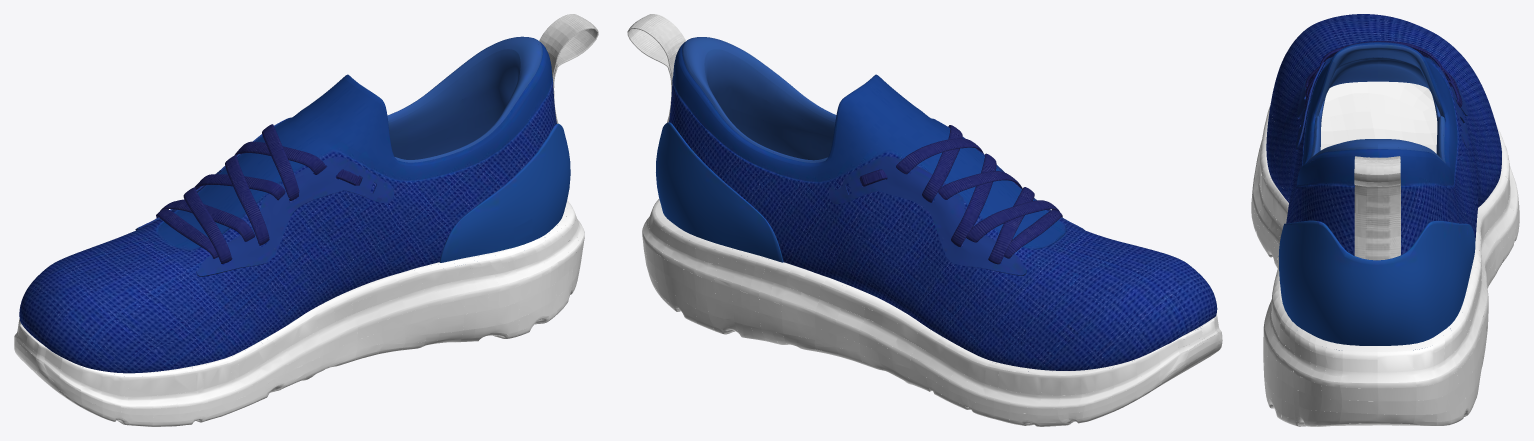
Rendered from shoeminimalglb.glb.
The picture shows the model from 3 angles, left to right: view 1: azimuth 30°, elevation 25°; view 2: azimuth 150°, elevation 25°; view 3: azimuth 270°, elevation 25°; orthographic projection. The views are drawn at different scales.
Visible parts, largest first — view 1: pasted__polySurface1, Botto, pasted__polySurface2, pasted__polySurface14, pasted__polySurface5, pasted__polySurface9; view 2: pasted__polySurface1, Botto, pasted__polySurface2, pasted__polySurface14, pasted__polySurface8, pasted__polySurface9; view 3: pasted__polySurface1, Botto, pasted__polySurface2, Insole, pasted__polySurface9, pasted__polySurface14, pasted__polySurface5, pasted__polySurface8.
Boxes of the visible parts, x1,y1,x2,y2 form: pasted__polySurface1: (19,36,556,373); Botto: (14,200,584,426); pasted__polySurface2: (439,123,570,262); pasted__polySurface14: (156,124,326,263); pasted__polySurface5: (196,156,393,276); pasted__polySurface9: (539,14,598,123); pasted__polySurface1: (669,37,1217,371); Botto: (642,199,1222,426); pasted__polySurface2: (656,122,783,262); pasted__polySurface14: (896,125,1062,264); pasted__polySurface8: (829,156,1026,275); pasted__polySurface9: (627,14,685,122); pasted__polySurface1: (1266,14,1501,255); Botto: (1251,106,1519,426); pasted__polySurface2: (1278,220,1475,350); Insole: (1320,81,1437,153); pasted__polySurface9: (1354,156,1400,260); pasted__polySurface14: (1305,41,1458,97); pasted__polySurface5: (1295,59,1327,150); pasted__polySurface8: (1427,56,1468,148).
Size of the model in its own units: 0.3543 by 0.1539 by 0.1215.
Materials: 6 (4 with a texture image).
